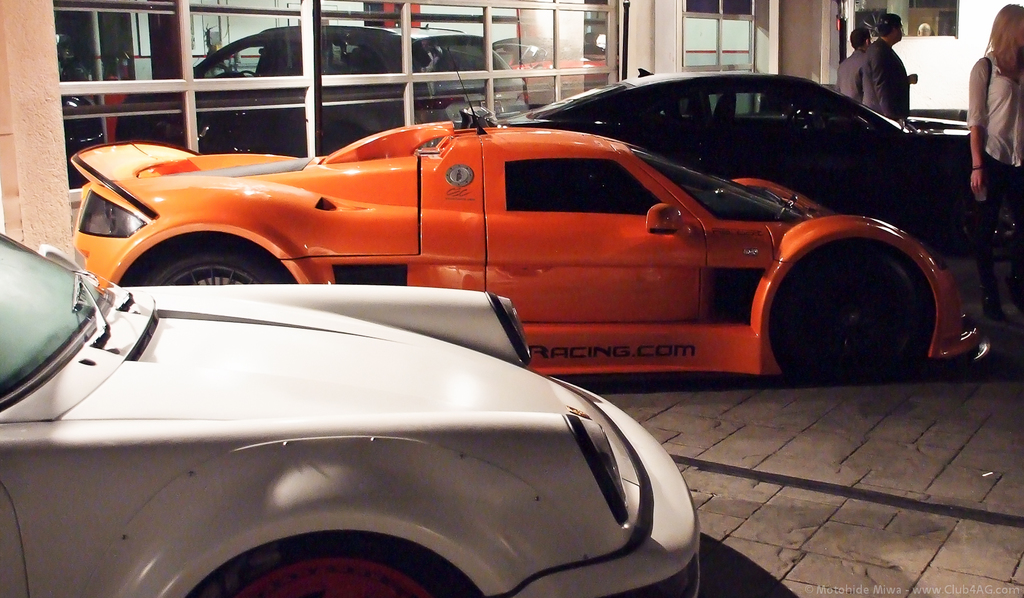mobil: (98, 120, 975, 373)
